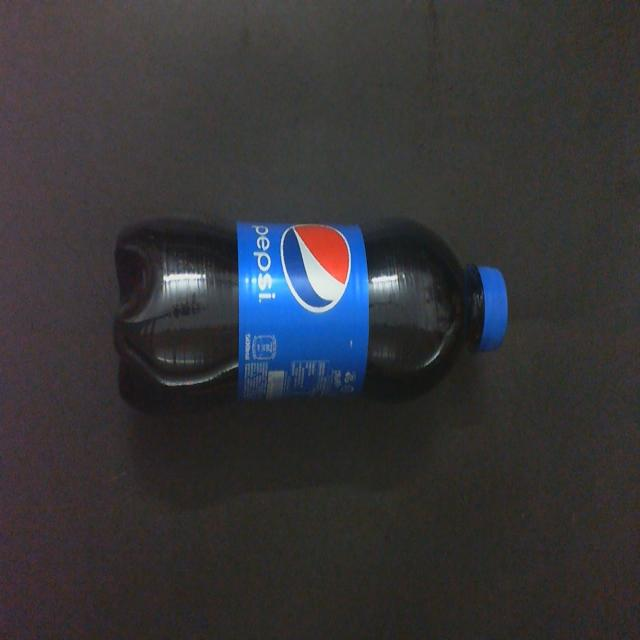non-defect: (110, 213, 510, 416)
